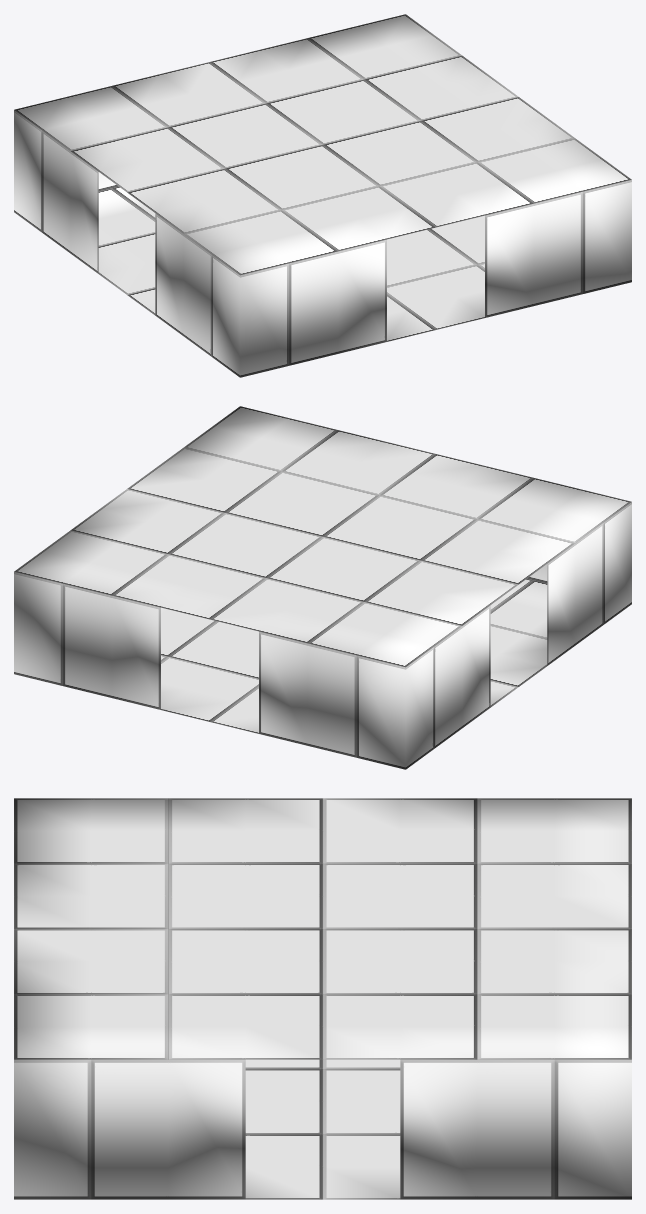
File: room.fbx
3 views of the same model, one above another, from view 1: azimuth 30°, elevation 25°; view 2: azimuth 150°, elevation 25°; view 3: azimuth 270°, elevation 25° (orthographic). The views are drawn at different scales.
Visible parts, largest first — view 1: Plane; view 2: Plane; view 3: Plane.
Boxes of the visible parts, <box> form: Plane: <box>14,14,631,377</box>; Plane: <box>14,406,631,769</box>; Plane: <box>14,798,631,1199</box>.
Bounding box in the file's own units: 16 × 4 × 16.
